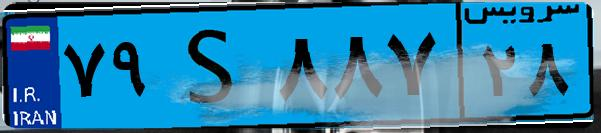2: (475, 38, 525, 113)
7: (385, 28, 445, 110), (57, 26, 110, 100)
8: (270, 28, 330, 110), (330, 28, 385, 110), (525, 38, 570, 115)
9: (110, 28, 158, 98)
S: (158, 12, 270, 120)
